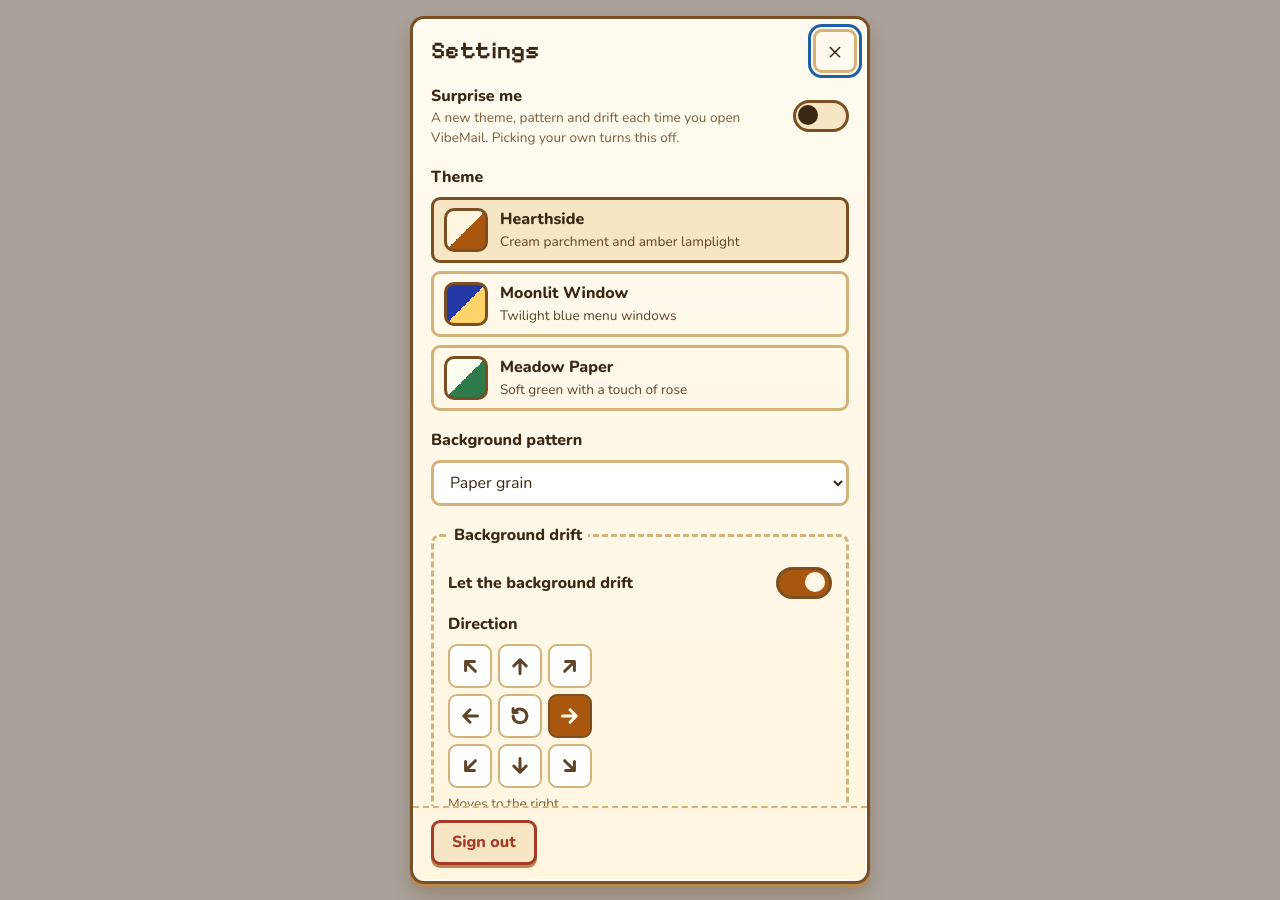
Test: Surprise me includes the drift › picks a complete new random look, drift included, when switched back on, and keeps your saved choices underneath
Expected: the radio button named "Drift to the right" is checked, top-left (548, 694), bottom-right (592, 738)
Step 1. Click the switch named "Surprise me" in the row of "Surprise me" → click(821, 116), box top-left (793, 100), bottom-right (849, 132)
(page scrolled)
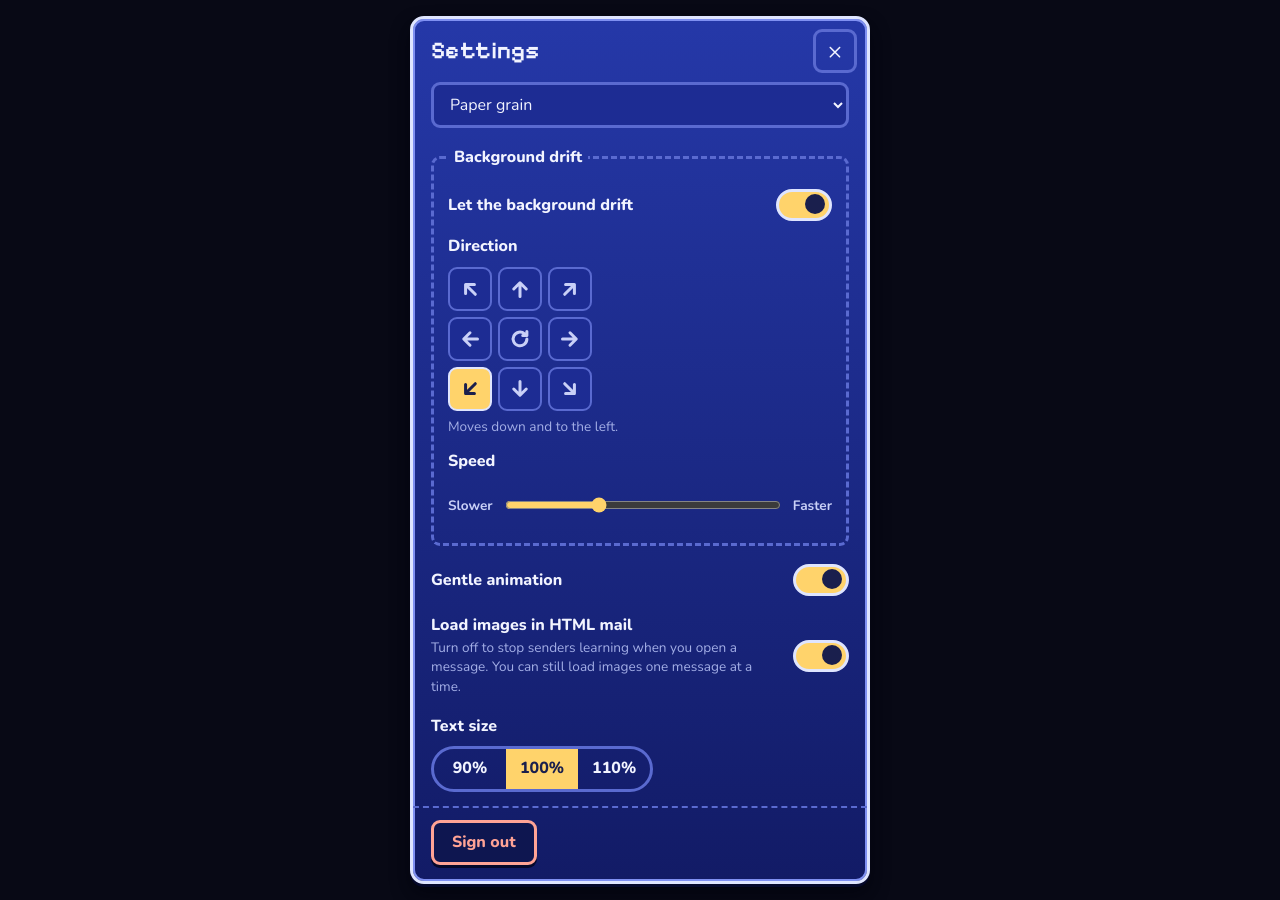
Expected: the slider labelled "Speed" holds "4", top-left (505, 483), bottom-right (781, 527)
